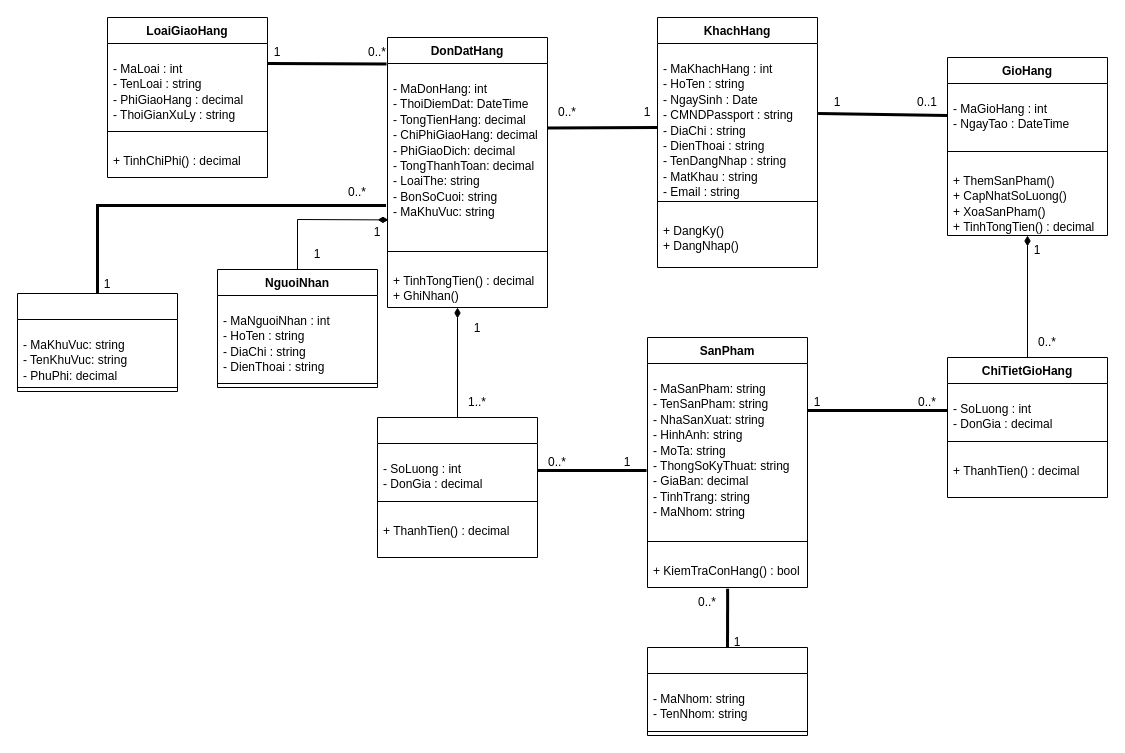
Some shapes in this 1125 by 753 pixel diagram are drawn without their labels. The shapes that lost their labels are listed below. From the top down, each one's box as (x1, y1, x2, y2) in pixels, then its label:
(16, 292, 178, 392): KhuVucGiaoHang
(376, 416, 538, 558): ChiTietDonHang
(646, 646, 808, 736): NhomSanPham
